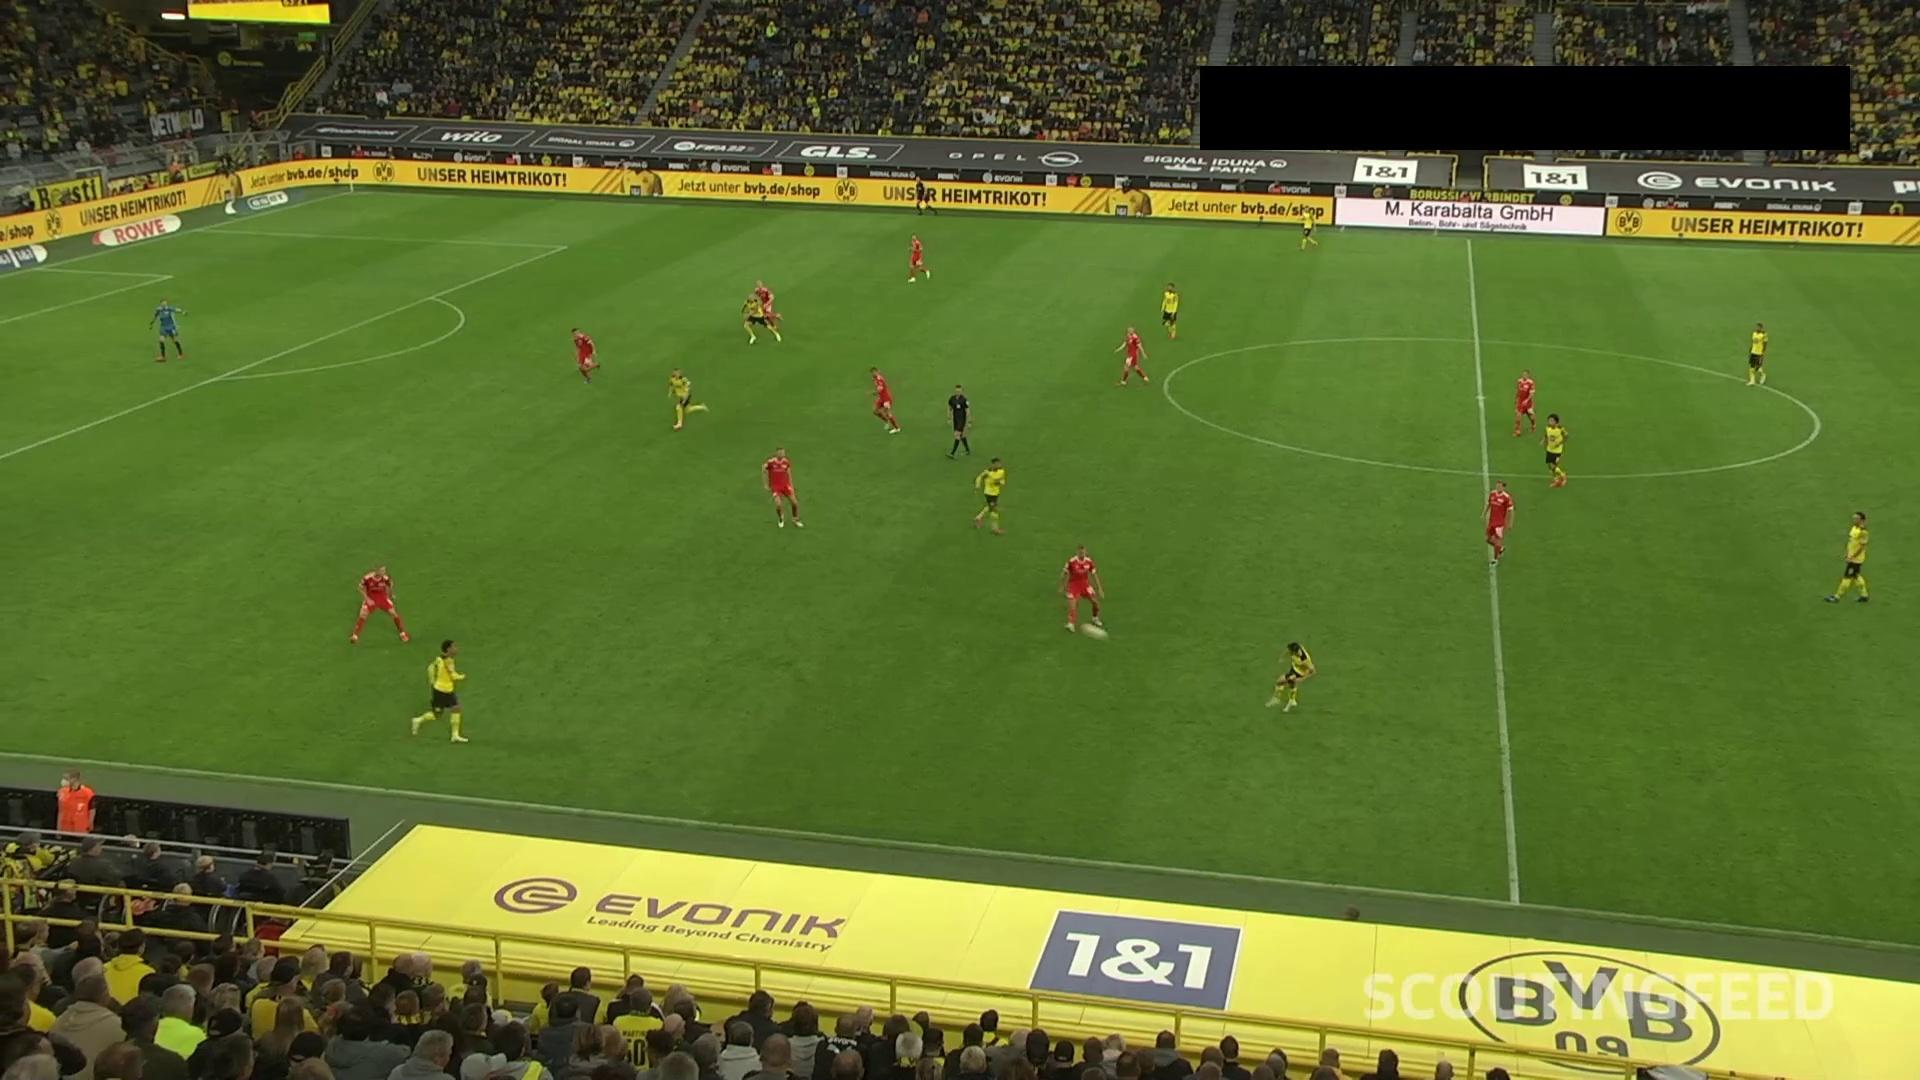Location-of-ball: (1067, 620, 1121, 642)
